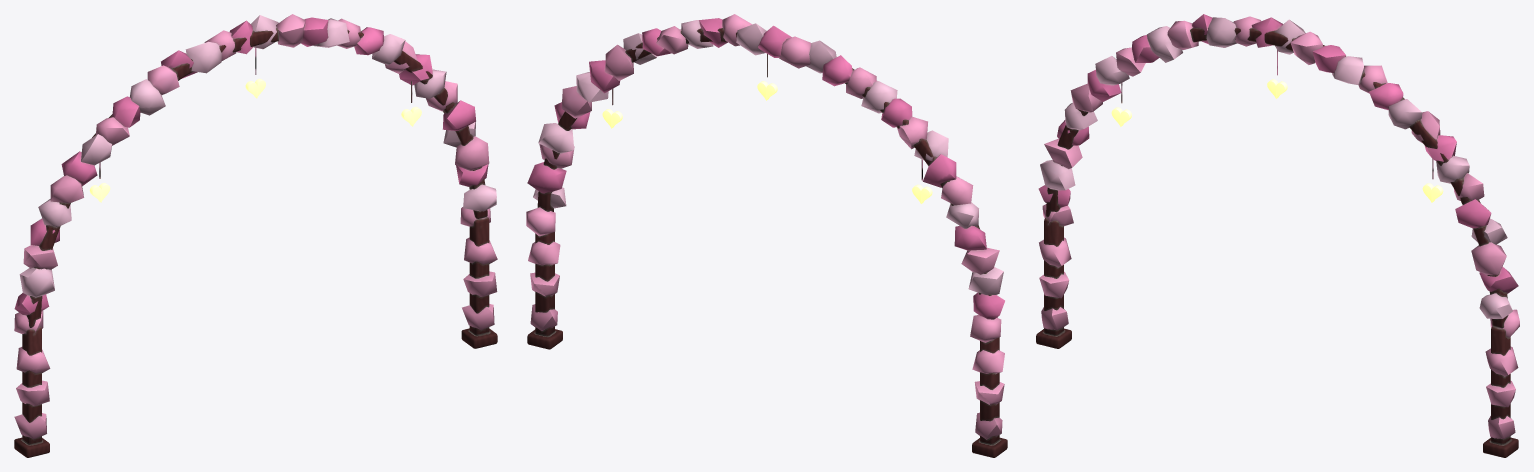
Rendered from cb_blossom_arch.glb.
3 views of the same model, side by side, from view 1: azimuth 30°, elevation 25°; view 2: azimuth 150°, elevation 25°; view 3: azimuth 330°, elevation 25° (orthographic).
Visible parts, largest first — view 1: cb_blossom_arch; view 2: cb_blossom_arch; view 3: cb_blossom_arch.
Part boxes in pixels (x1,y1,x2,y2): cb_blossom_arch: (14,14,497,457); cb_blossom_arch: (526,14,1007,457); cb_blossom_arch: (1036,14,1519,457).
Bounding box in the file's own units: 11.94 × 9.02 × 0.9644.
Materials: 5 (5 with a texture image).
